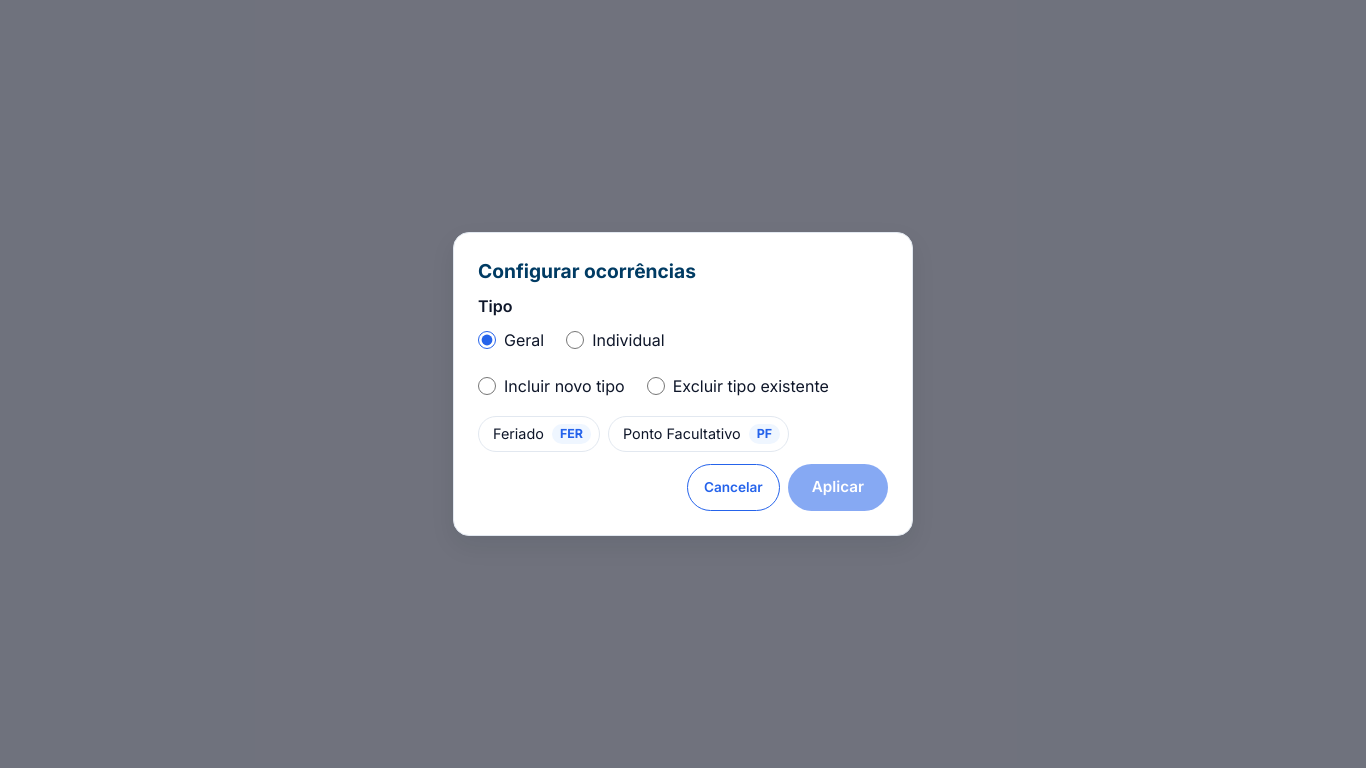
Scenario: ConfigurarTiposMarcacaoComponent › render — catálogo, escopo e rascunho › a recusa por duplicidade aparece na caixa de erro e o chip não é criado
This screenshot has width=1366, height=768.
Click the radio button labelled "Incluir novo tipo" at [487, 386], box [478,377,496,395]
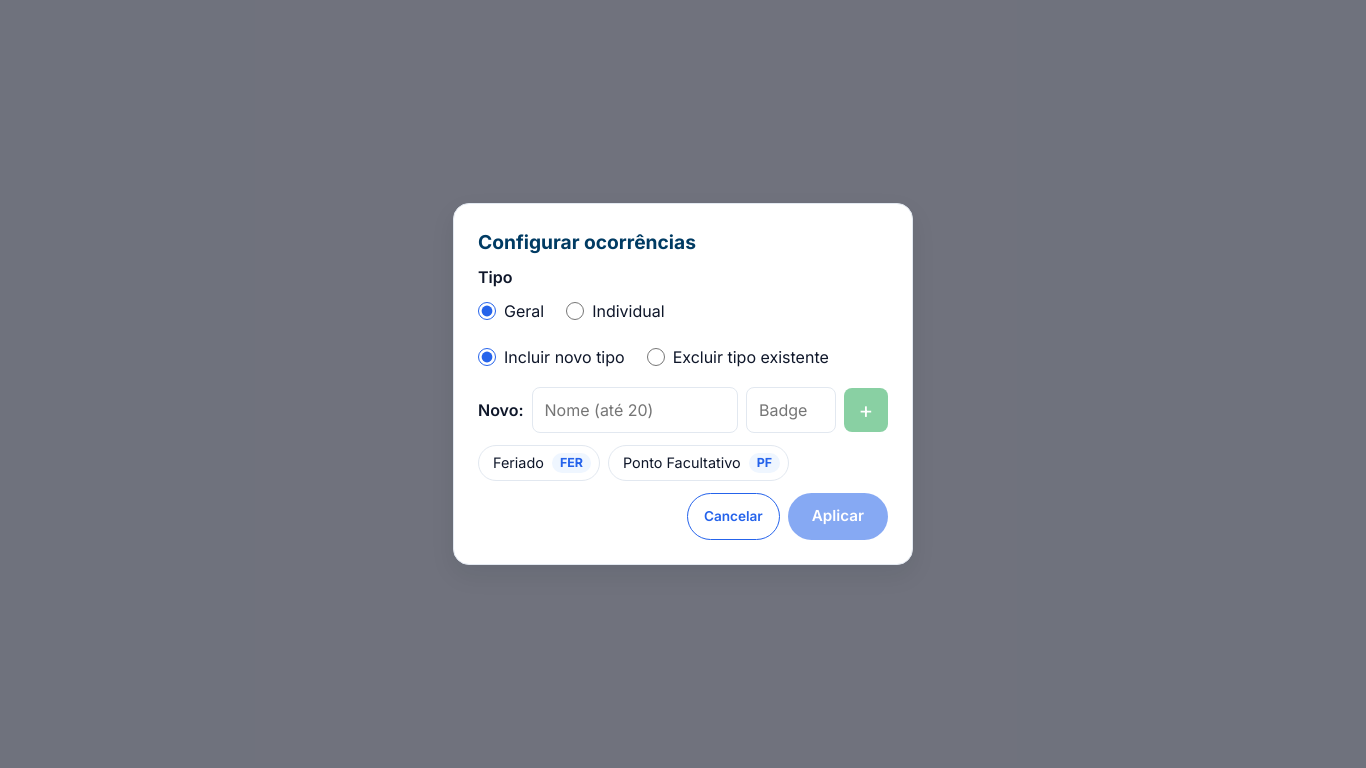
Type "feriado" into the field with placeholder "Nome (até 20)" at [635, 410], box [532,387,738,433]
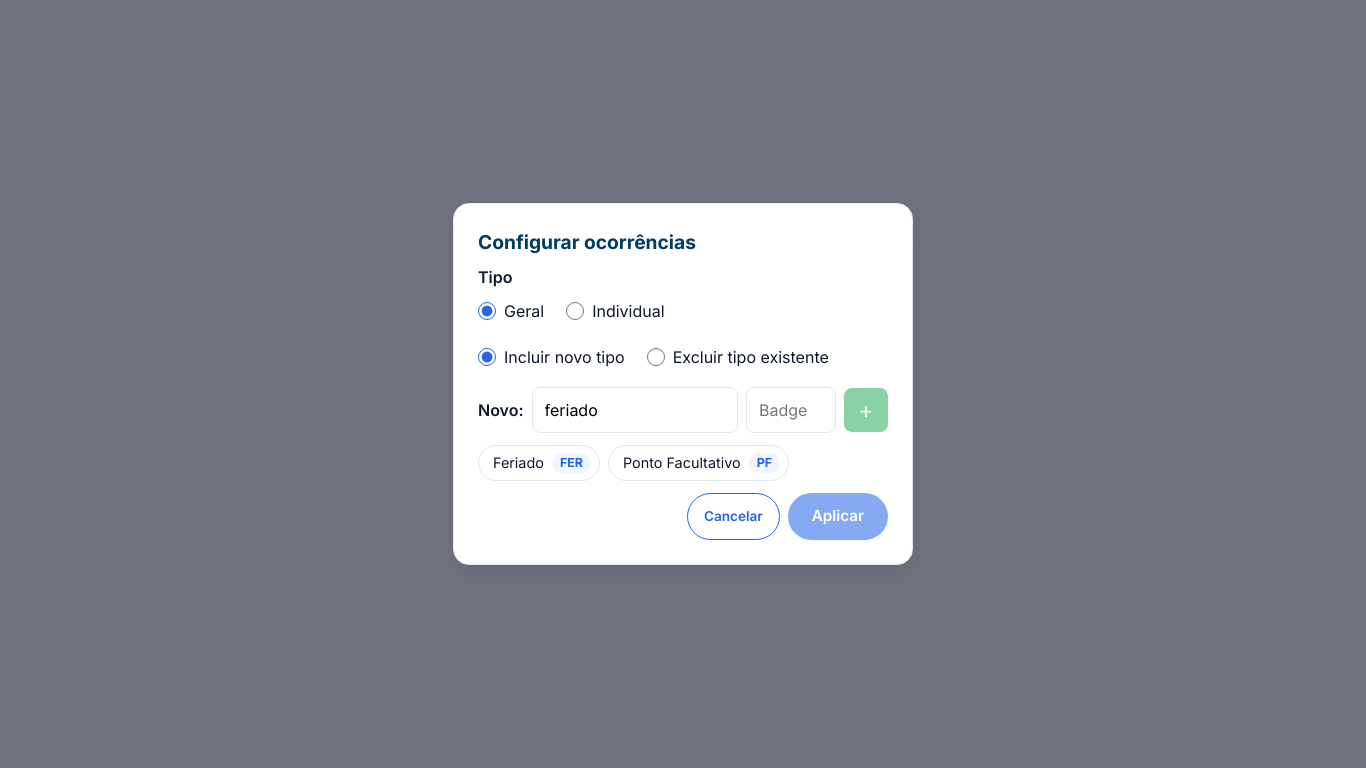
Type "FRD" into the field with placeholder "Badge" at [791, 410], box [746,387,836,433]
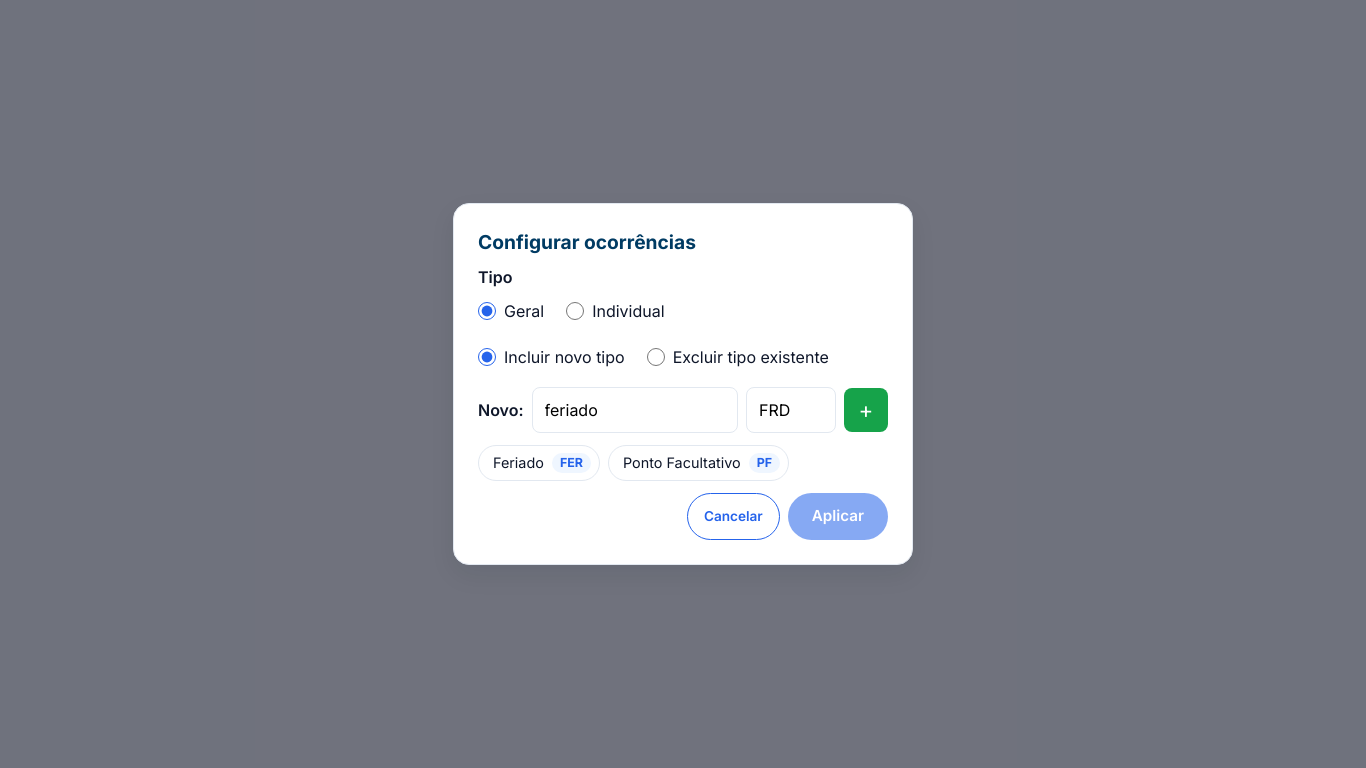
Click the button with class "btn-add" at [866, 410], box [844,388,888,432]
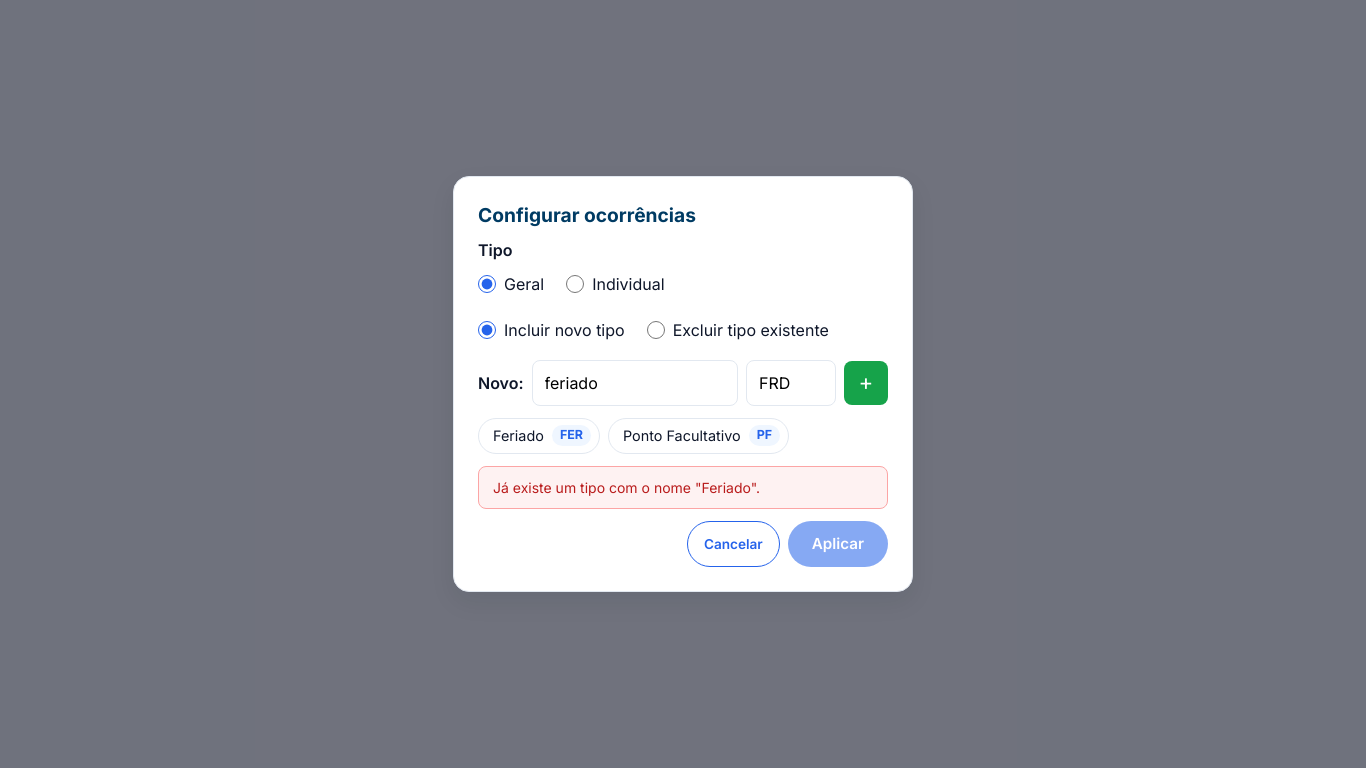
Check: the text with class "error-box" reads "Já existe um tipo com o nome \"Feriado\".", box [493,478,760,496]
